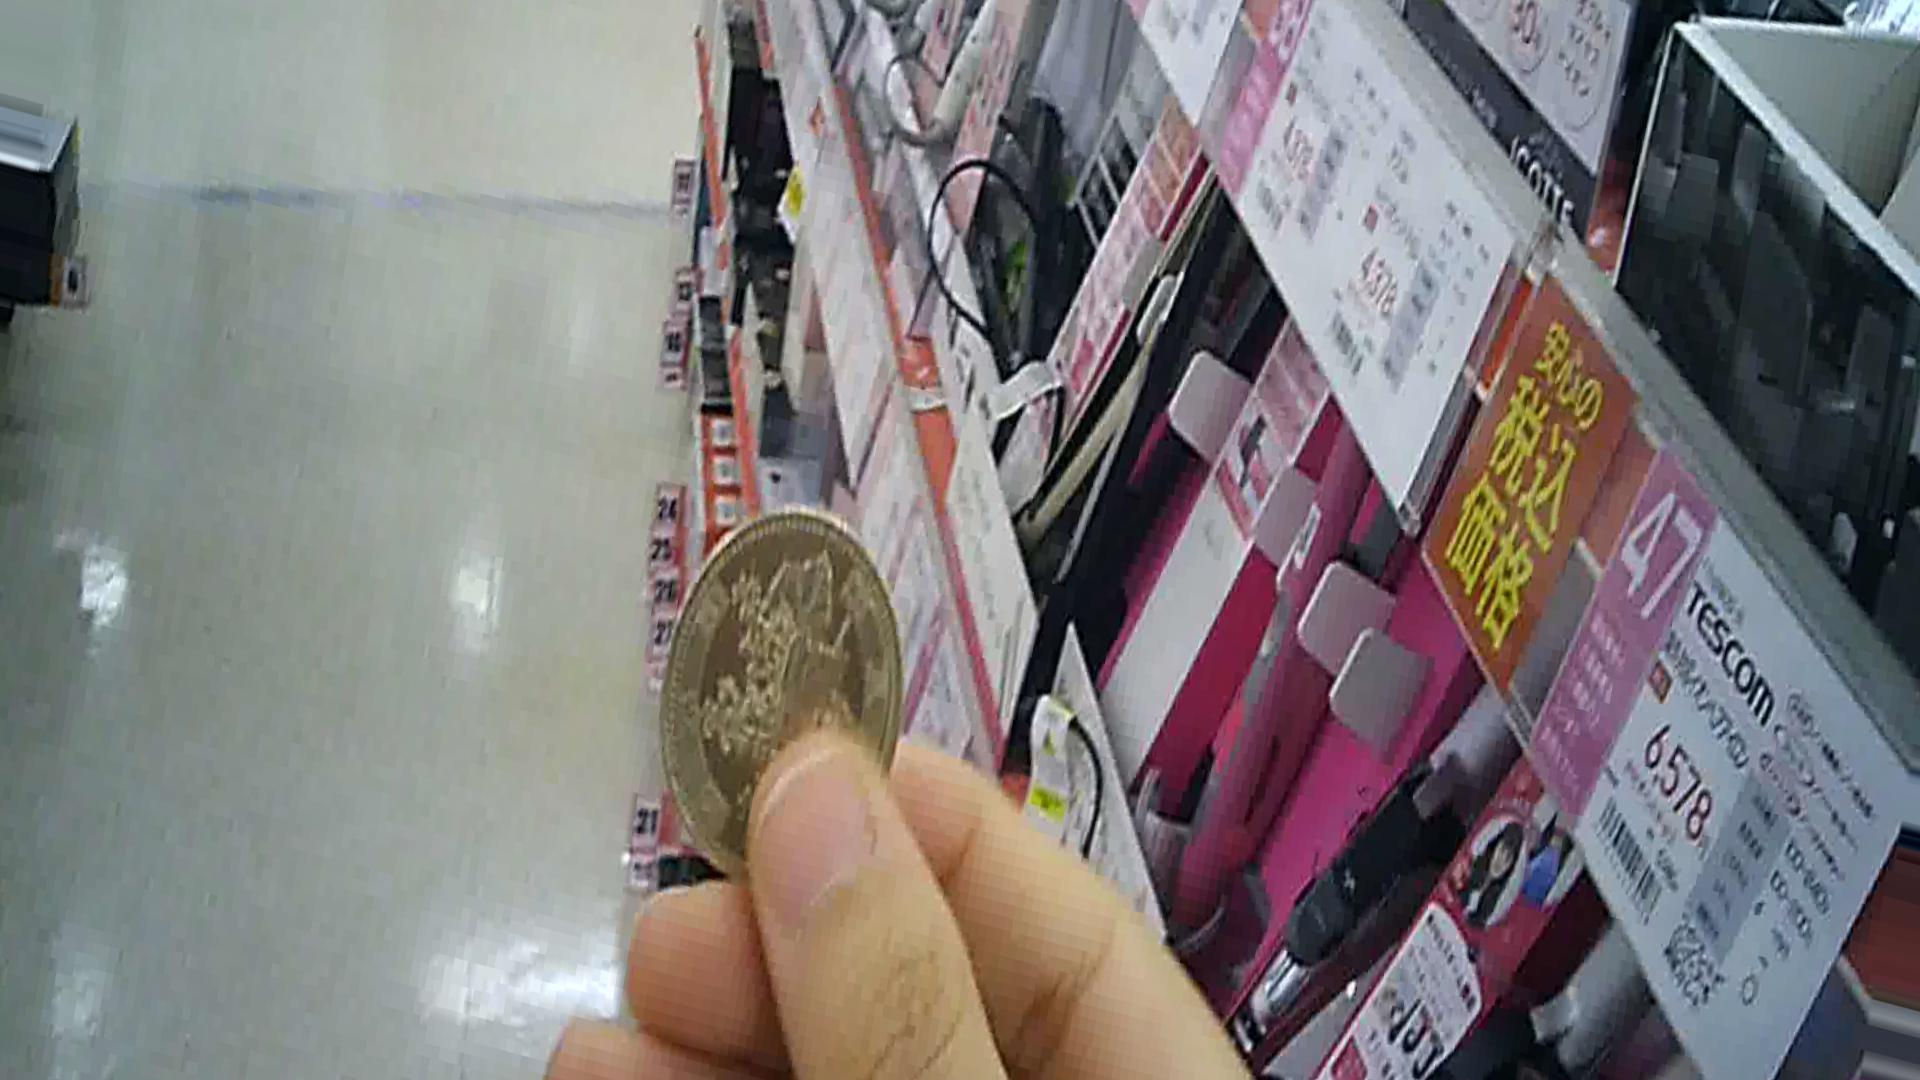500 Yen: (651, 509, 915, 858)
